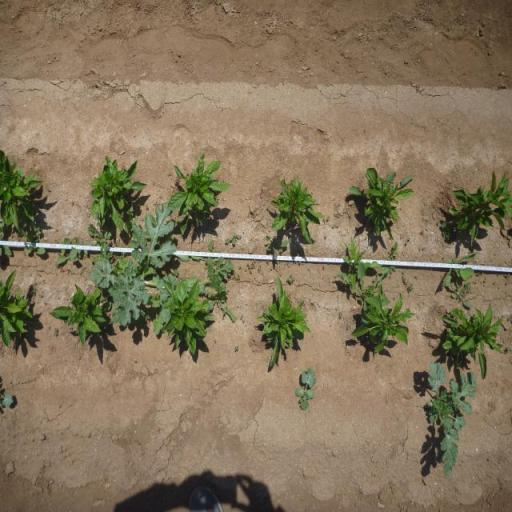plant: (167, 149, 232, 243), (253, 273, 312, 370), (87, 155, 149, 232), (450, 177, 512, 248), (265, 173, 324, 247), (442, 305, 508, 371), (351, 297, 415, 358), (363, 167, 415, 241), (50, 284, 109, 349), (0, 141, 46, 224), (163, 284, 214, 356), (0, 268, 34, 346)
weed: (86, 203, 236, 332), (424, 362, 478, 479), (52, 210, 118, 268), (335, 264, 391, 326), (338, 240, 385, 285), (200, 286, 240, 324), (440, 248, 480, 285), (293, 366, 319, 412), (17, 224, 52, 257), (450, 277, 474, 309), (264, 234, 288, 256), (388, 245, 398, 269), (224, 232, 240, 246), (440, 222, 451, 240), (400, 269, 408, 286), (144, 310, 153, 322), (286, 274, 296, 284), (246, 264, 256, 274), (230, 273, 240, 282), (408, 283, 414, 293), (52, 328, 58, 338), (274, 266, 282, 273), (32, 286, 38, 293), (278, 248, 284, 254), (400, 292, 405, 299), (234, 345, 239, 352), (326, 216, 331, 221), (347, 325, 350, 330), (258, 267, 261, 272)
